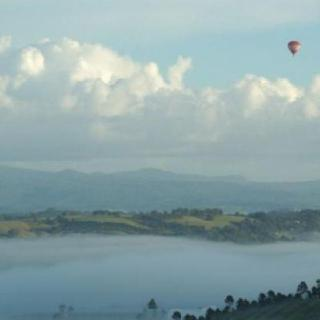Cumulus: (0, 33, 320, 162)
